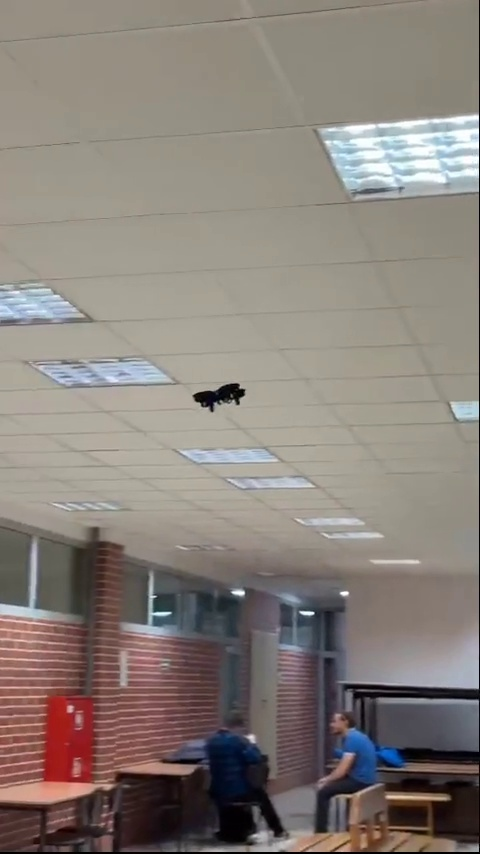drone: (188, 375, 250, 415)
no vest: (211, 705, 290, 842), (313, 704, 388, 834)
